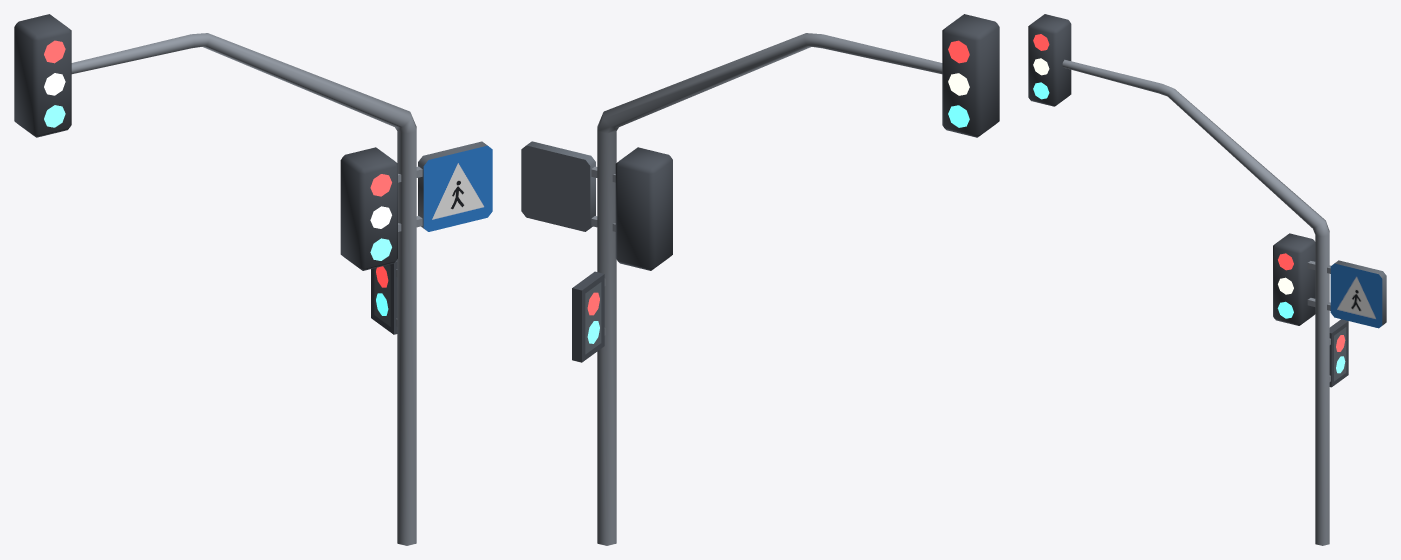
File: traffic_light_002_pacote.glb
3 renders of one model, left to right at view 1: azimuth 30°, elevation 25°; view 2: azimuth 150°, elevation 25°; view 3: azimuth 330°, elevation 25°, orthographic. The views are drawn at different scales.
Visible parts, largest first — view 1: traffic_light_002_pacote, luz_amarela; view 2: traffic_light_002_pacote; view 3: traffic_light_002_pacote.
Part boxes in pixels (x1=…): traffic_light_002_pacote: x1=14, y1=14, x2=492, y2=545; luz_amarela: x1=44, y1=73, x2=391, y2=228; traffic_light_002_pacote: x1=521, y1=14, x2=999, y2=545; traffic_light_002_pacote: x1=1028, y1=14, x2=1386, y2=545.
Bounding box in the file's own units: 4.73 × 5.88 × 0.7394.
5 materials, 2 textured.
